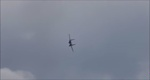maybay_muctieu: (66, 34, 77, 54)
